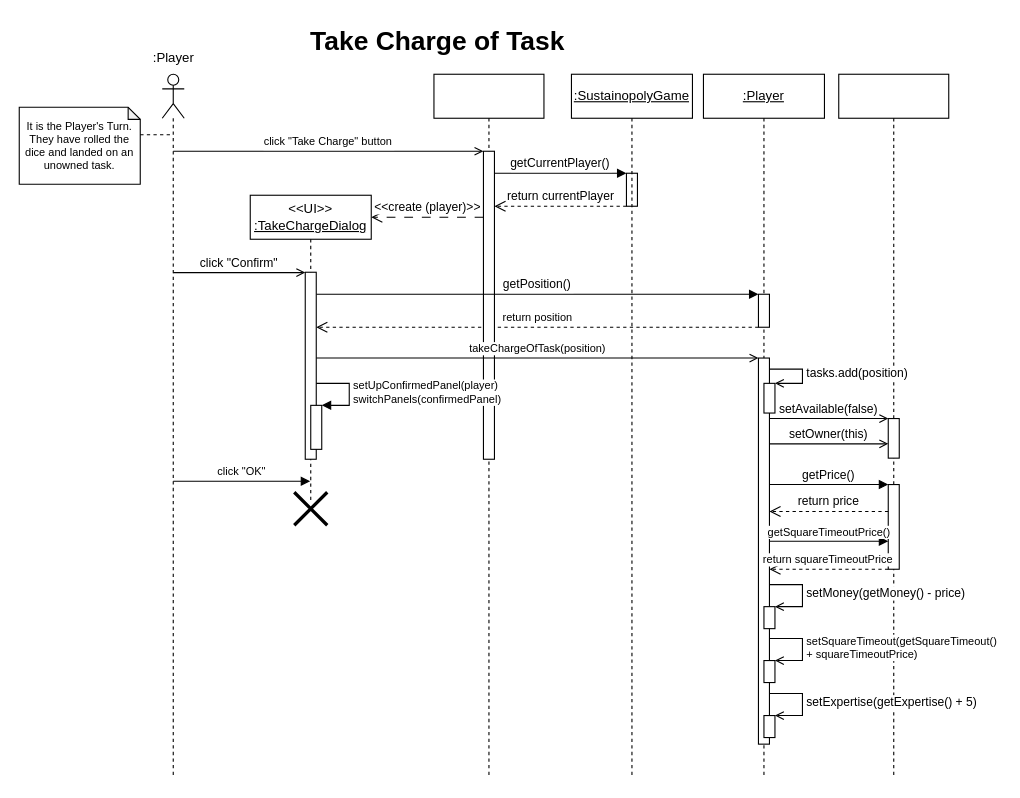
Image size: 1020x798. Some labels were removed from this diagram. The centre of each missing label's shape, as x and y in pixels:
":TaskSquare" belongs at (x=893, y=425).
"<<UI>> :MainWindow" belongs at (x=488, y=425).
